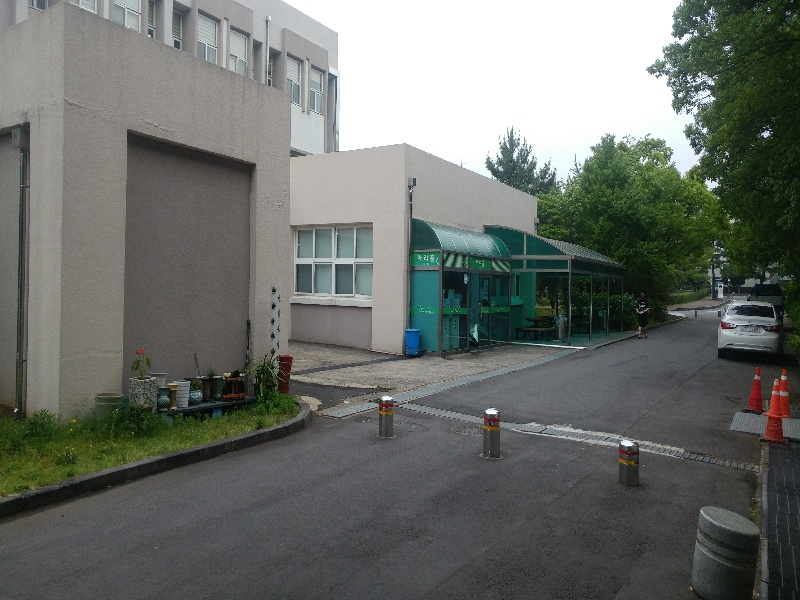Ara Hall: (289, 157, 624, 350), (413, 161, 537, 344)
Main Building: (1, 2, 290, 368), (1, 28, 339, 157)
